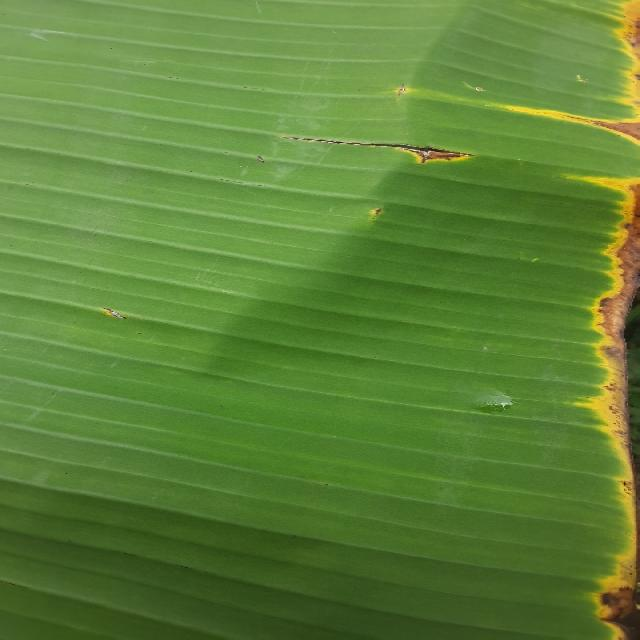Cordana: (468, 0, 640, 640), (252, 108, 482, 236), (72, 291, 160, 340)
